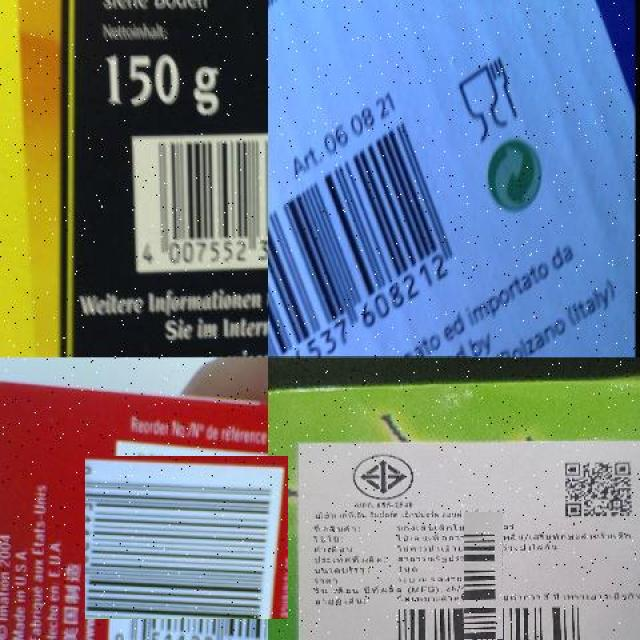Barcode: (268, 110, 472, 358), (95, 446, 278, 630), (131, 129, 268, 271), (419, 556, 547, 640)
